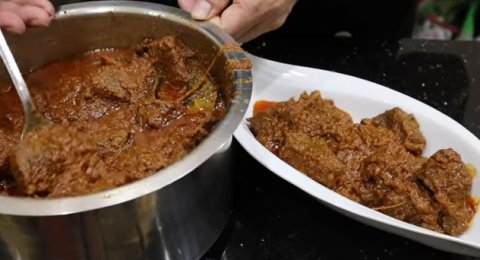rendang: (2, 8, 245, 208), (260, 83, 480, 245)
